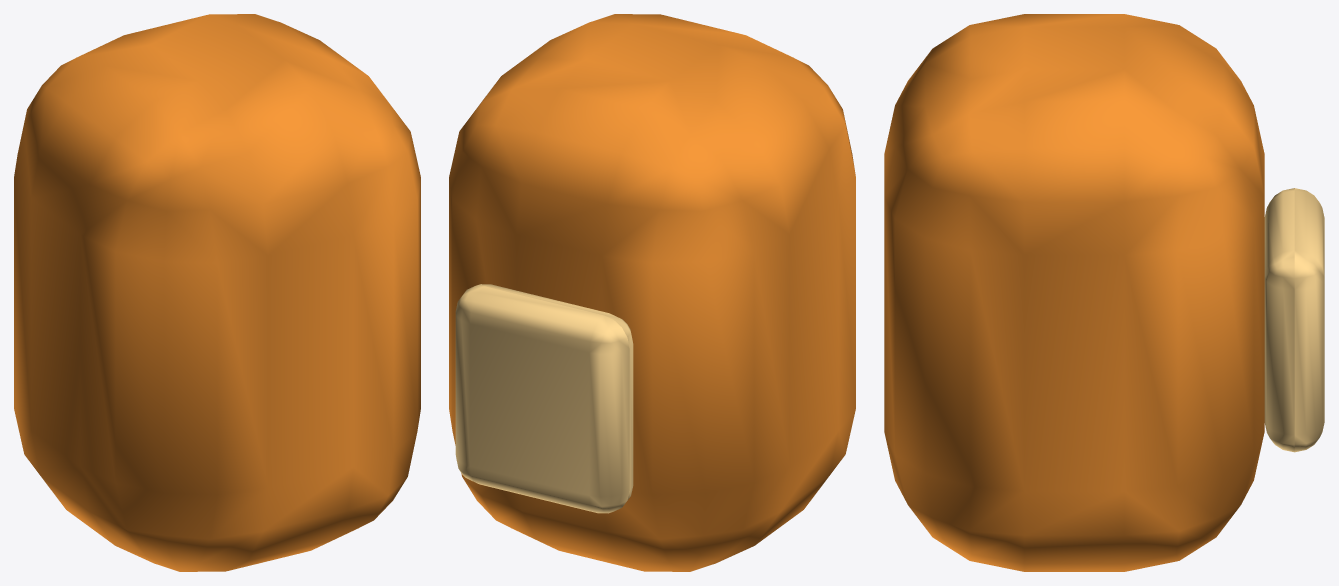
Rendered from chr_player_capsule01_cat_hand_top3d_v002.glb.
3 views of the same model, side by side, from view 1: azimuth 30°, elevation 25°; view 2: azimuth 150°, elevation 25°; view 3: azimuth 270°, elevation 25° (orthographic).
Parts seen in each view (by area): view 1: Glove; view 2: Glove, GripPad; view 3: Glove, GripPad.
Boxes of the visible parts, left/top/right/bottom form: Glove: left=14, top=14, right=420, bottom=571; Glove: left=449, top=14, right=855, bottom=571; GripPad: left=455, top=284, right=633, bottom=513; Glove: left=884, top=14, right=1264, bottom=571; GripPad: left=1264, top=188, right=1324, bottom=452.
Size of the model in its own units: 0.38 by 0.54 by 0.44.
